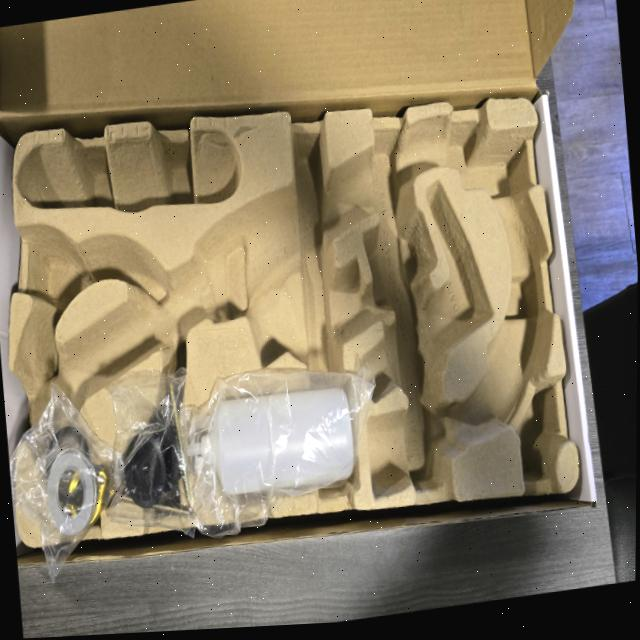1m: (17, 115, 550, 495)
2m: (361, 180, 489, 403)
3: (187, 386, 352, 495)
4m: (14, 130, 239, 211)
5m: (28, 241, 83, 307)
6: (8, 378, 121, 578)
7: (107, 370, 191, 533)
